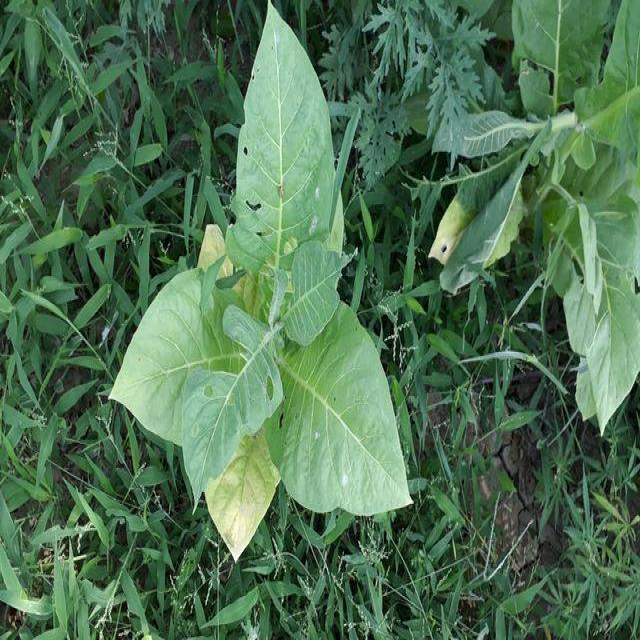crop: (111, 4, 400, 540), (445, 8, 640, 420)
